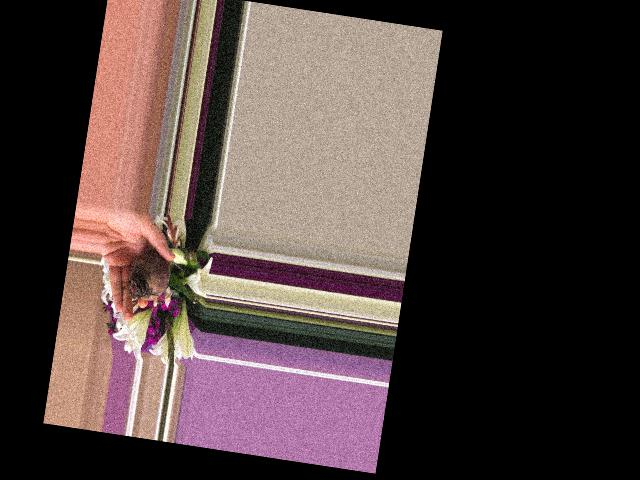beet: (125, 246, 185, 305)
